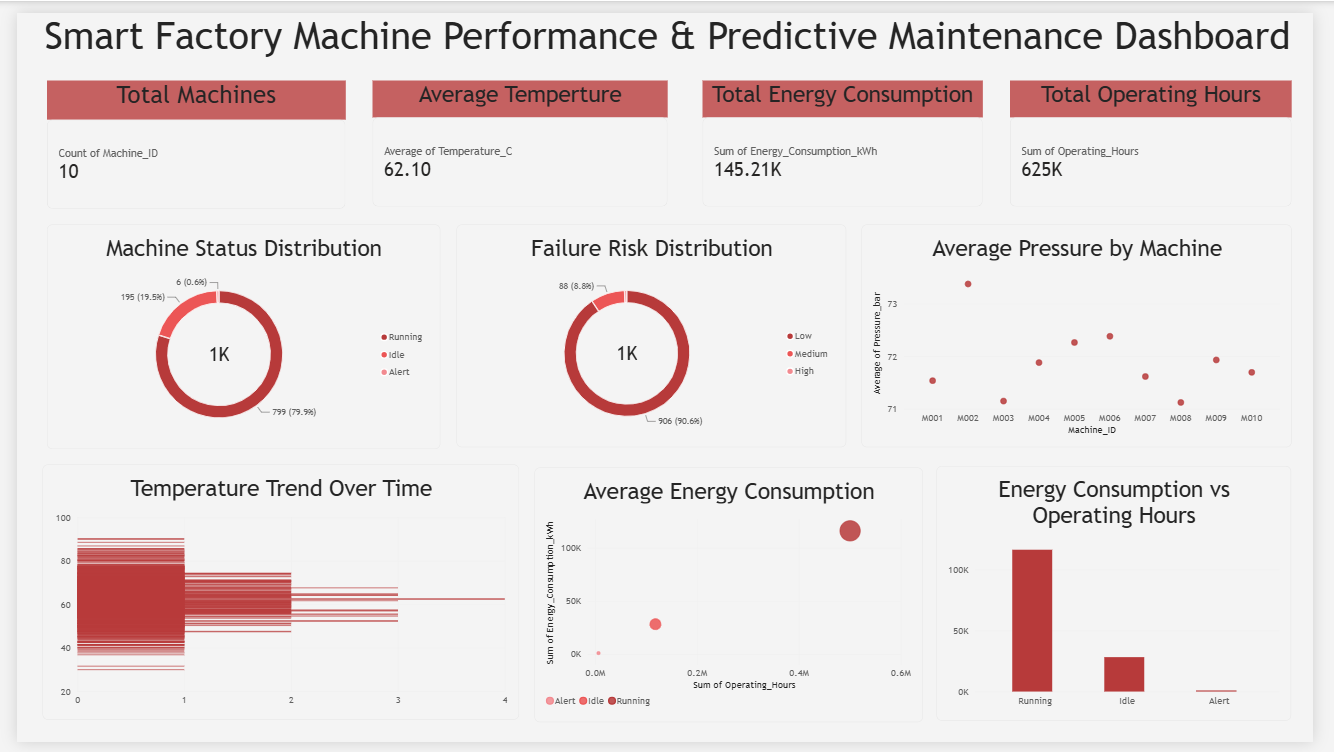

Layout of this report page (visuals, bound fields, positions):
{"tool":"powerbi","page":{"name":"Page 1","canvas":[1920,1080],"ordinal":0},"visuals":[{"type":"textbox","box":[9.4,0,1909.4,100],"z":0},{"type":"cardVisual","title":"Total Machines","fields":{"Data":["Count(smart_factory_cleaned.Machine_ID)"]},"box":[45,100,442.5,190],"z":1},{"type":"cardVisual","title":"Average Temperture","fields":{"Data":["Avg(smart_factory_cleaned.Temperature_C)"]},"box":[527.5,100,437.5,187.5],"z":2},{"type":"cardVisual","title":"Total Energy Consumption","fields":{"Data":["Sum(smart_factory_cleaned.Energy_Consumption_kWh)"]},"box":[1015,100,415,187.5],"z":3},{"type":"donutChart","title":"Machine Status Distribution","fields":{"Category":["smart_factory_cleaned.Machine_Status"],"Y":["CountNonNull(smart_factory_cleaned.Machine_ID)"]},"box":[45,312.5,582.5,332.5],"z":5},{"type":"donutChart","title":"Failure Risk Distribution","fields":{"Category":["smart_factory_cleaned.Failure_Risk"],"Y":["CountNonNull(smart_factory_cleaned.Machine_ID)"]},"box":[650,312.5,577.5,330],"z":6},{"type":"clusteredBarChart","title":"Temperature Trend Over Time","fields":{"Category":["smart_factory_cleaned.Temperature_C"],"Y":["CountNonNull(smart_factory_cleaned.Timestamp)"]},"box":[37.5,668.8,706.2,378.1],"z":7},{"type":"scatterChart","title":"Average Pressure by Machine","fields":{"X":["smart_factory_cleaned.Machine_ID"],"Y":["Avg(smart_factory_cleaned.Pressure_bar)"]},"box":[1250,312.5,637.5,330],"z":9},{"type":"clusteredColumnChart","title":"Energy Consumption vs Operating Hours","fields":{"Category":["smart_factory_cleaned.Machine_Status"],"Y":["Sum(smart_factory_cleaned.Energy_Consumption_kWh)"]},"box":[1362.5,670,525,377.5],"z":10},{"type":"cardVisual","title":"Total Operating Hours","fields":{"Data":["Sum(smart_factory_cleaned.Operating_Hours)"]},"box":[1470,100,417.5,187.5],"z":11},{"type":"scatterChart","title":"Average Energy Consumption ","fields":{"Series":["smart_factory_cleaned.Machine_Status"],"Size":["Sum(smart_factory_cleaned.Temperature_C)"],"X":["Sum(smart_factory_cleaned.Operating_Hours)"],"Y":["Sum(smart_factory_cleaned.Energy_Consumption_kWh)"]},"box":[767.5,672.5,575,377.5],"z":12}]}

Visuals, with their boxes in screenshot pixels (x1, y1, x2, y2), scaled from the page's 1920x1080 canvas onto the 1334x752 screenshot:
textbox: [x1=7, y1=0, x2=1333, y2=70]
"Total Machines" cardVisual: [x1=31, y1=70, x2=339, y2=202]
"Average Temperture" cardVisual: [x1=367, y1=70, x2=670, y2=200]
"Total Energy Consumption" cardVisual: [x1=705, y1=70, x2=994, y2=200]
"Machine Status Distribution" donutChart: [x1=31, y1=218, x2=436, y2=449]
"Failure Risk Distribution" donutChart: [x1=452, y1=218, x2=853, y2=447]
"Temperature Trend Over Time" clusteredBarChart: [x1=26, y1=466, x2=517, y2=729]
"Average Pressure by Machine" scatterChart: [x1=868, y1=218, x2=1311, y2=447]
"Energy Consumption vs Operating Hours" clusteredColumnChart: [x1=947, y1=467, x2=1311, y2=729]
"Total Operating Hours" cardVisual: [x1=1021, y1=70, x2=1311, y2=200]
"Average Energy Consumption " scatterChart: [x1=533, y1=468, x2=933, y2=731]
